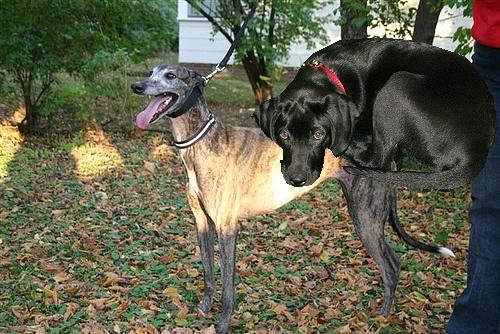tampered: (251, 39, 497, 189)
